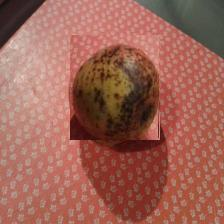Mango Rotten: (71, 35, 161, 140)
